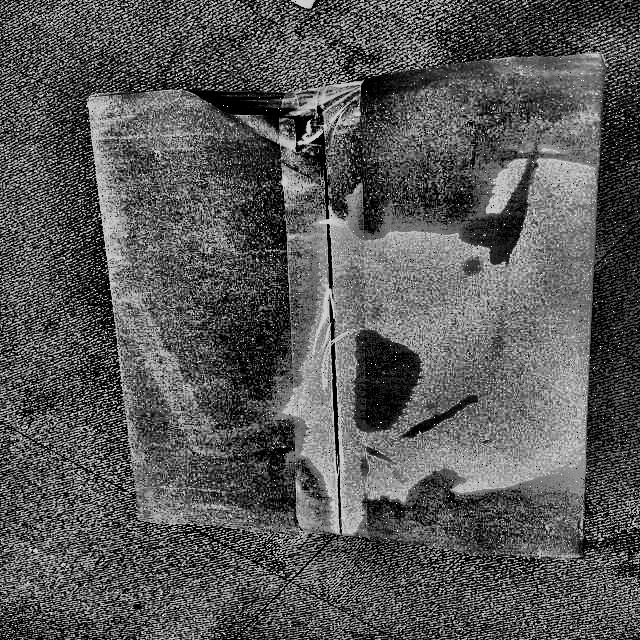box: (70, 45, 625, 572), (82, 55, 612, 562)
wet: (85, 66, 314, 568), (328, 59, 605, 246), (347, 458, 610, 566)
